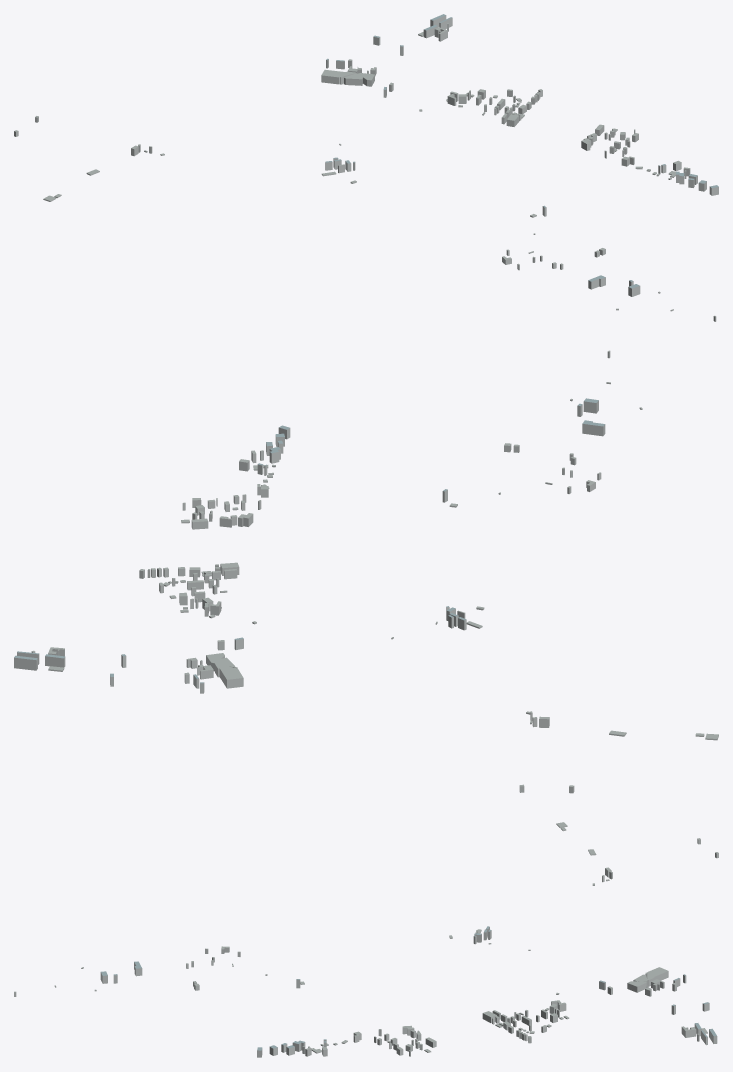
Rendered from far.glb.
The picture shows the model from 3 angles, top to bottom: view 1: azimuth 30°, elevation 25°; view 2: azimuth 150°, elevation 25°; view 3: azimuth 270°, elevation 25°; orthographic projection. The views are drawn at different scales.
Bounding box in the file's own units: 1255 × 21.9 × 1593.
